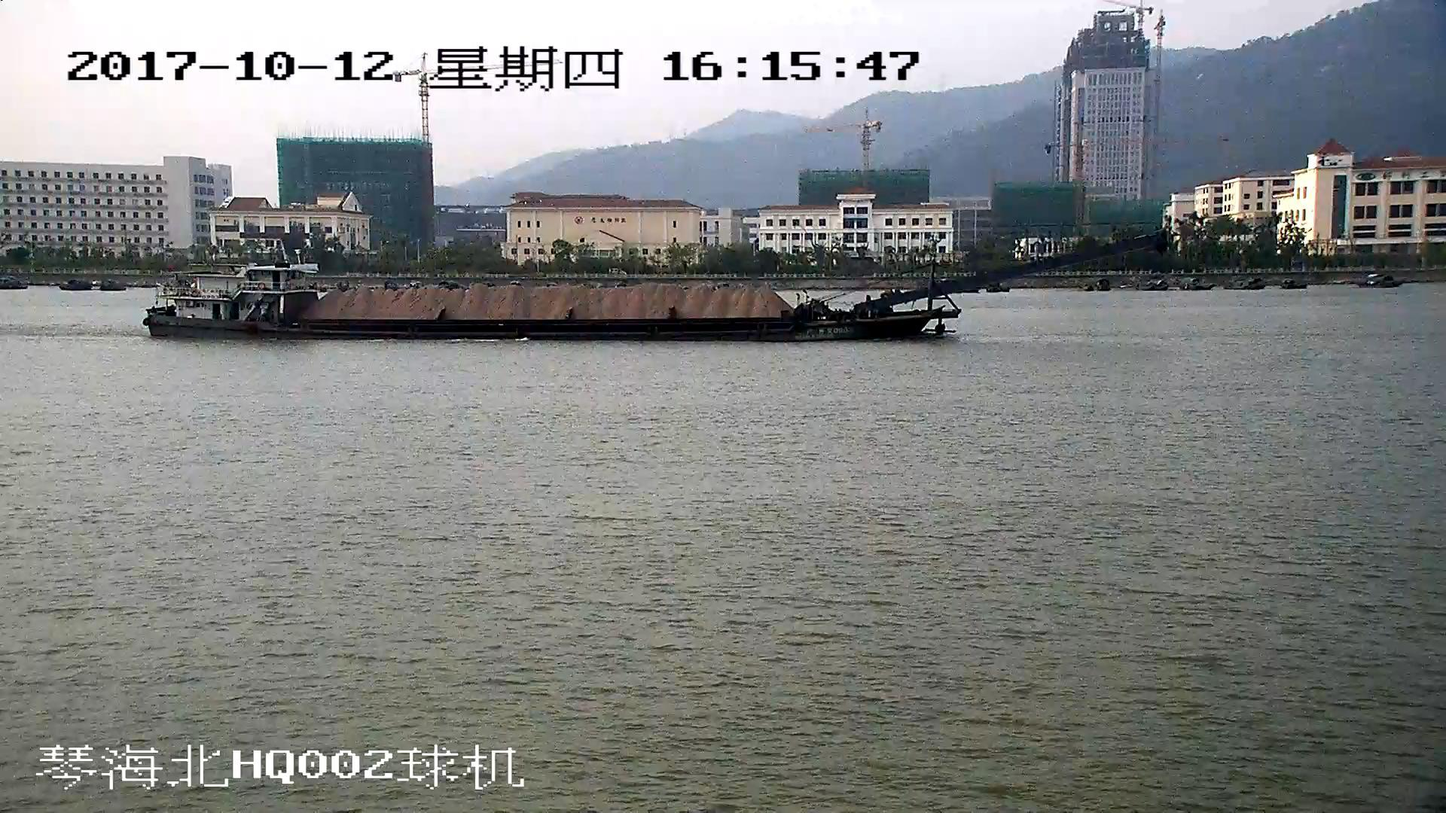ore carrier: (145, 229, 1165, 340)
